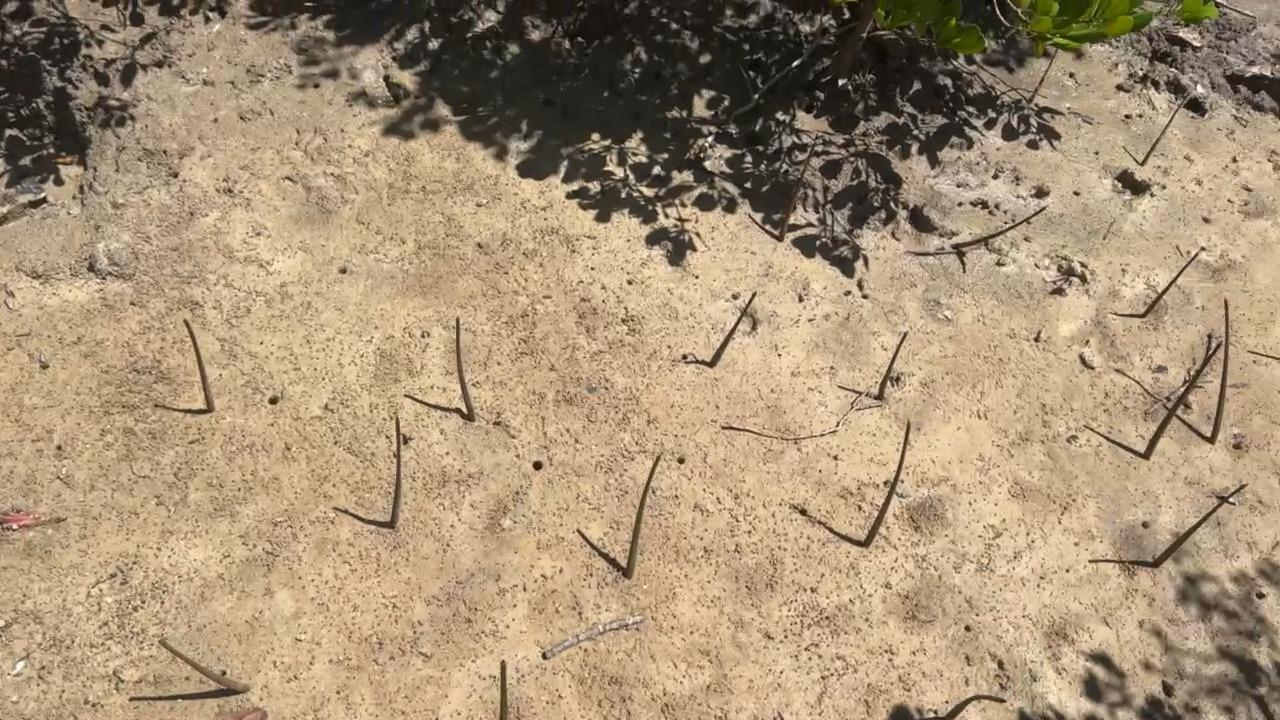Tree: (1141, 341, 1224, 461), (1152, 483, 1249, 568), (862, 419, 911, 549), (158, 638, 252, 693), (624, 453, 661, 580), (950, 204, 1049, 250), (777, 139, 818, 243), (1141, 250, 1202, 319), (708, 291, 758, 369), (1139, 92, 1191, 167), (181, 318, 216, 414), (1209, 297, 1230, 446), (454, 314, 478, 423), (877, 331, 909, 401), (1027, 48, 1061, 103), (389, 413, 403, 529), (499, 658, 511, 720), (973, 694, 1007, 705)
